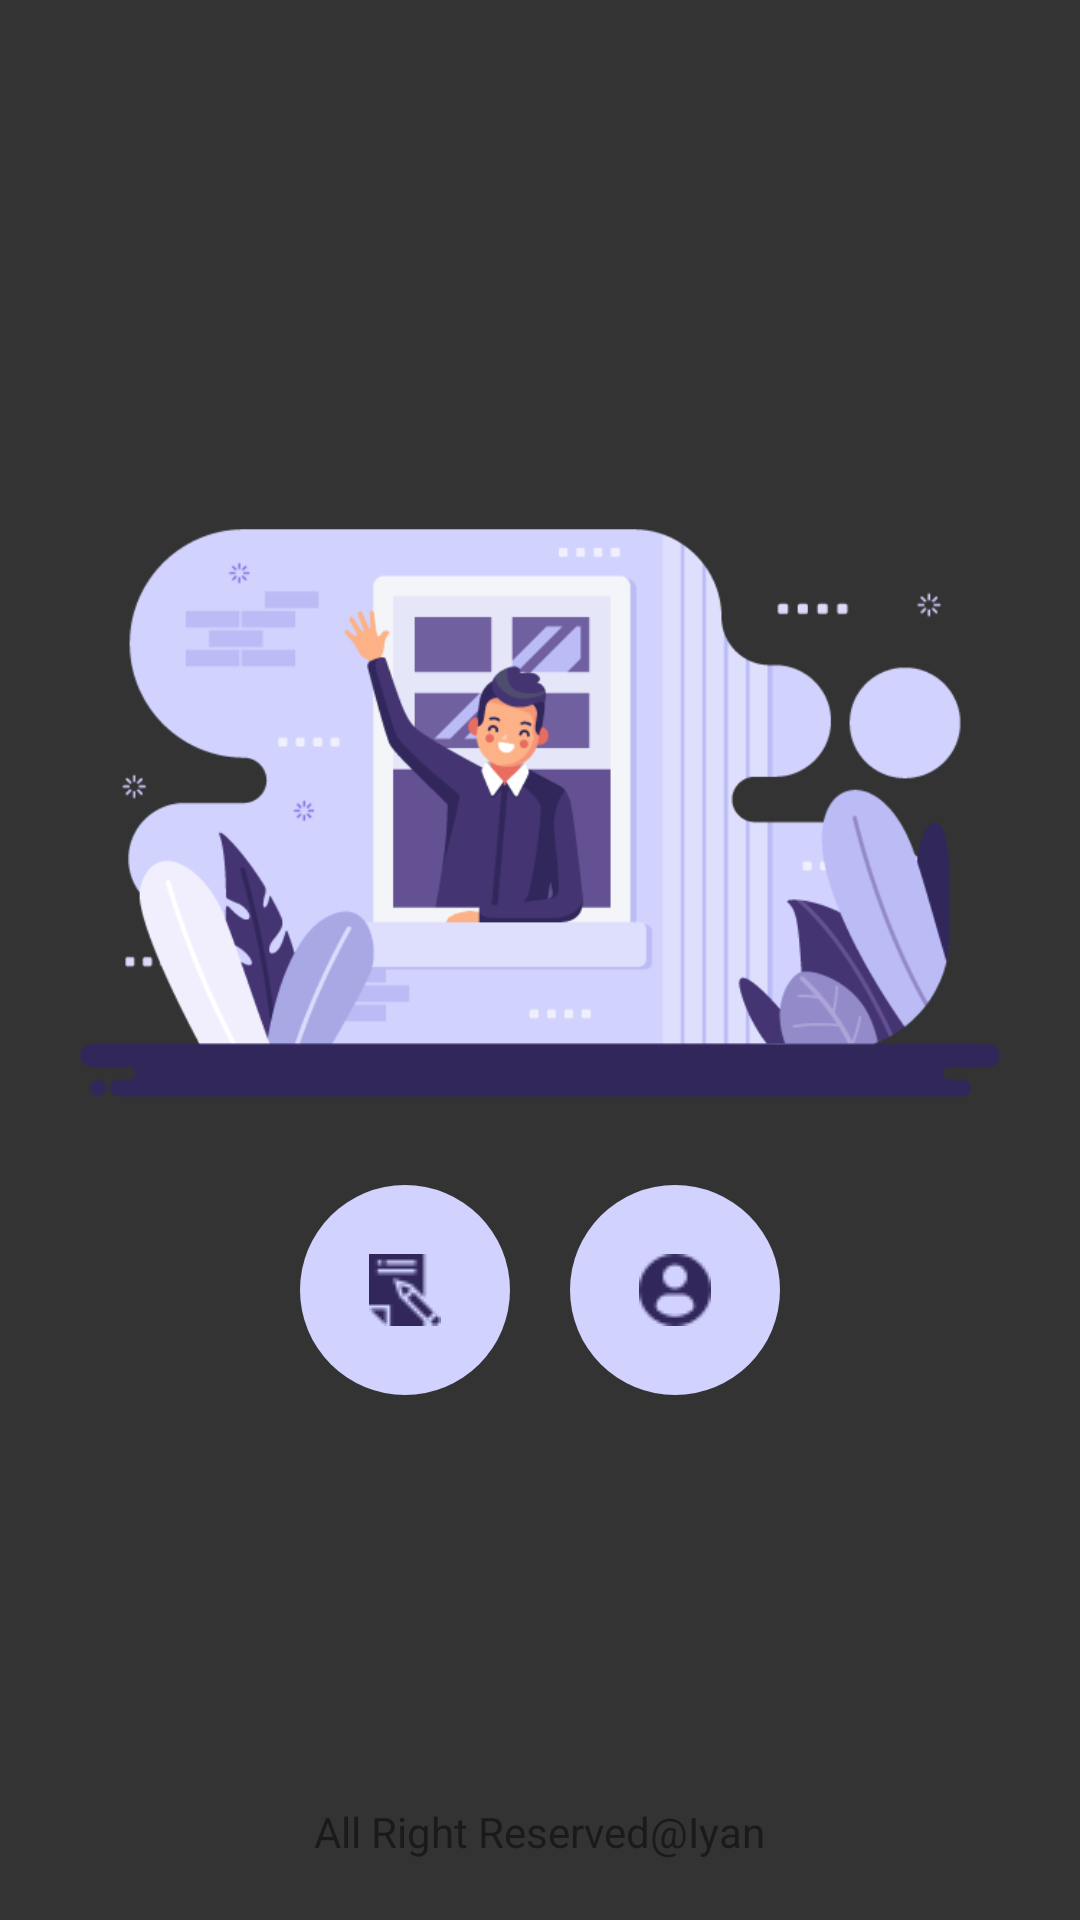

Point at icon controls on the screen. Image size 1080*1920, points as point (x, y).
artikel: point (405, 1290)
profile: point (675, 1290)
